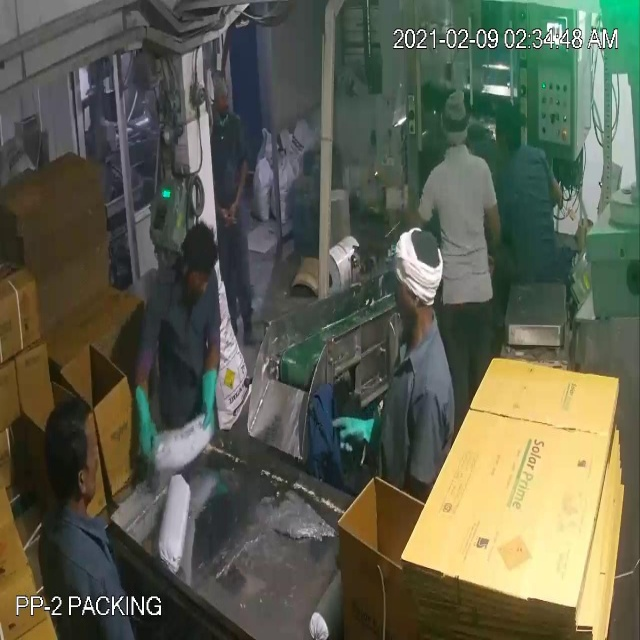Guantes: (320, 401, 419, 474), (190, 358, 231, 448), (125, 373, 158, 457)
Sin_guantes: (216, 148, 253, 226), (480, 184, 504, 262)
